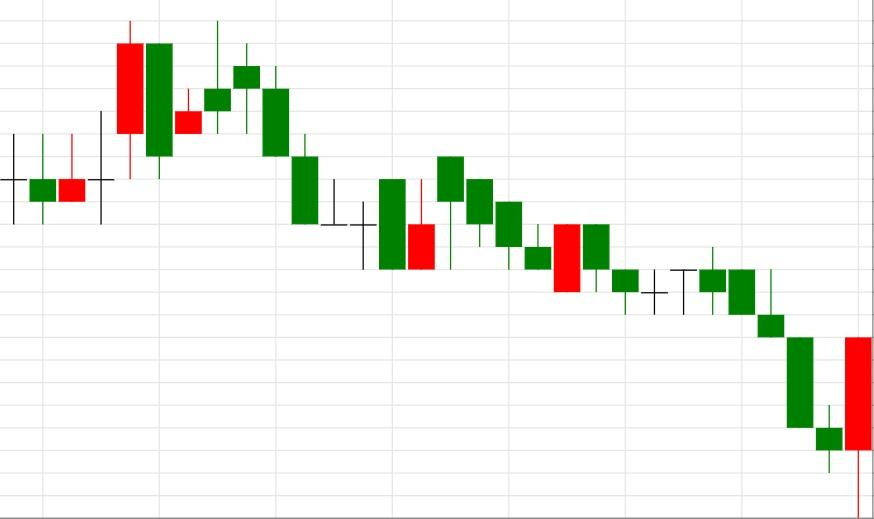three_black_crows_fall: (0, 21, 319, 225)
